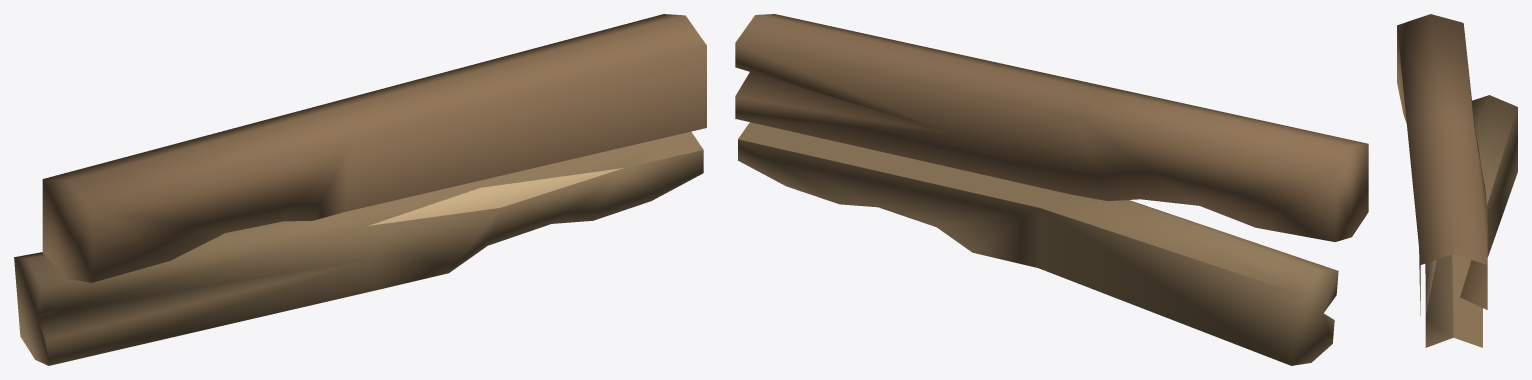
The model's file is rpgpp_av_wall_01_3x1_a.gltf.
The picture shows the model from 3 angles, left to right: view 1: azimuth 30°, elevation 25°; view 2: azimuth 150°, elevation 25°; view 3: azimuth 270°, elevation 25°; orthographic projection. The views are drawn at different scales.
Visible parts, largest first — view 1: rpgpp_av_wall_01_3x1_a; view 2: rpgpp_av_wall_01_3x1_a; view 3: rpgpp_av_wall_01_3x1_a.
Part boxes in pixels (x1=…): rpgpp_av_wall_01_3x1_a: x1=14, y1=14, x2=706, y2=365; rpgpp_av_wall_01_3x1_a: x1=735, y1=14, x2=1368, y2=365; rpgpp_av_wall_01_3x1_a: x1=1397, y1=14, x2=1517, y2=347.
Bounding box in the file's own units: 0.0302 × 0.00941 × 0.00638.
1 material, 1 textured.
